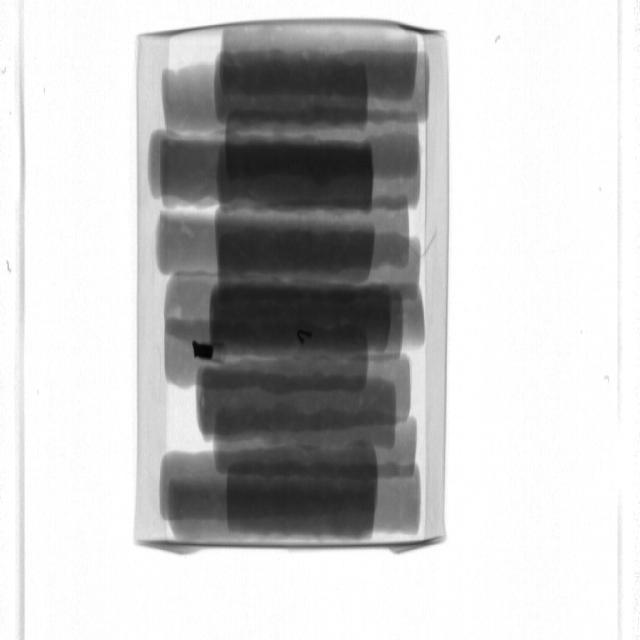ym: (195, 343, 217, 361), (298, 330, 315, 345)
